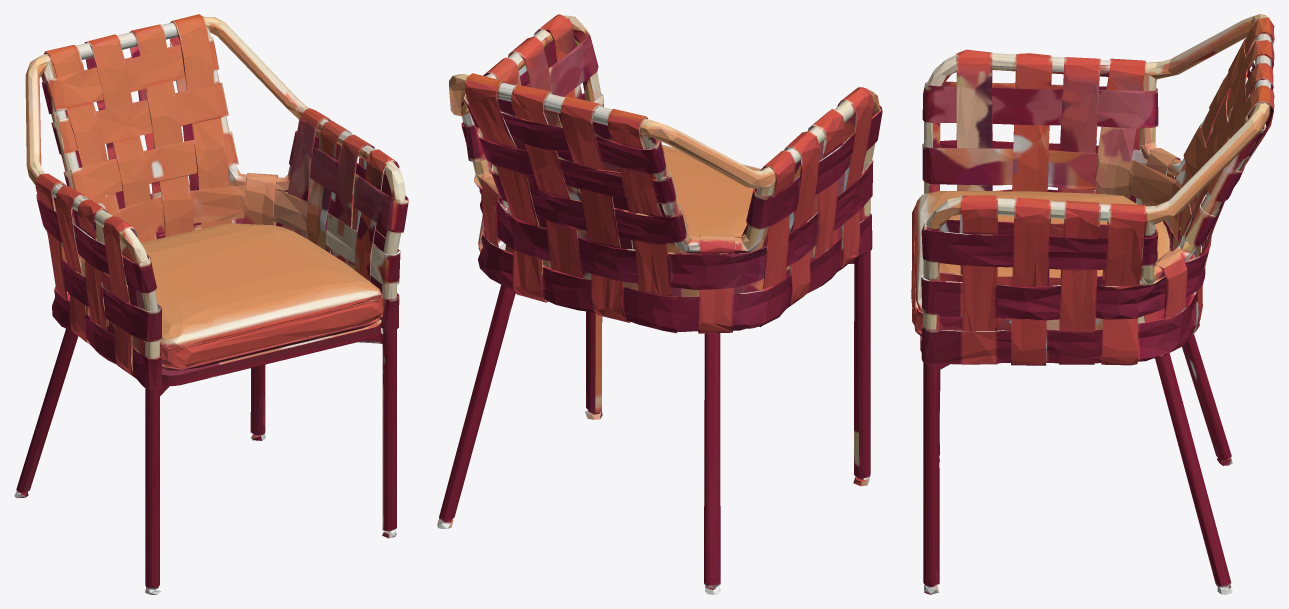
File: edited_mesh.glb
3 renders of one model, left to right at view 1: azimuth 30°, elevation 25°; view 2: azimuth 150°, elevation 25°; view 3: azimuth 270°, elevation 25°, orthographic. The views are drawn at different scales.
Parts seen in each view (by area): view 1: solid_001_wire; view 2: solid_001_wire; view 3: solid_001_wire.
Part boxes in pixels (box(x1,y1,x2,y2)): solid_001_wire: box(14, 14, 408, 594); solid_001_wire: box(437, 14, 882, 594); solid_001_wire: box(911, 14, 1274, 594).
Size of the model in its own units: 1.04 by 1.48 by 1.04.
1 material, 1 textured.
